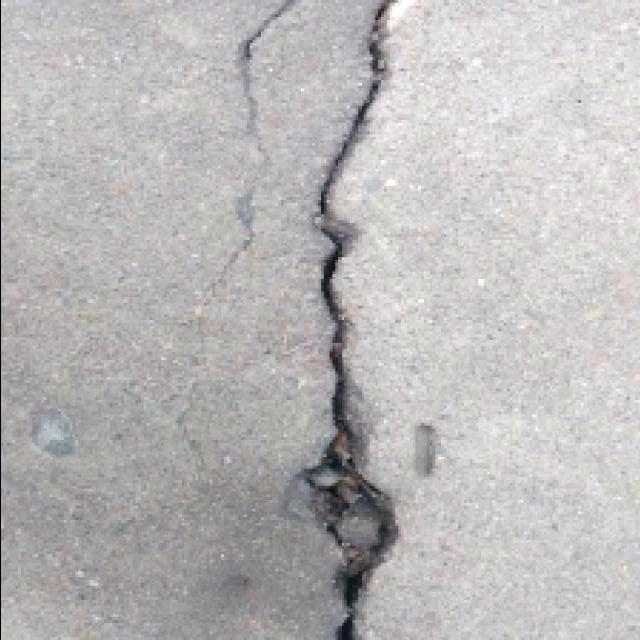SurfaceCrack: (256, 0, 436, 640)
